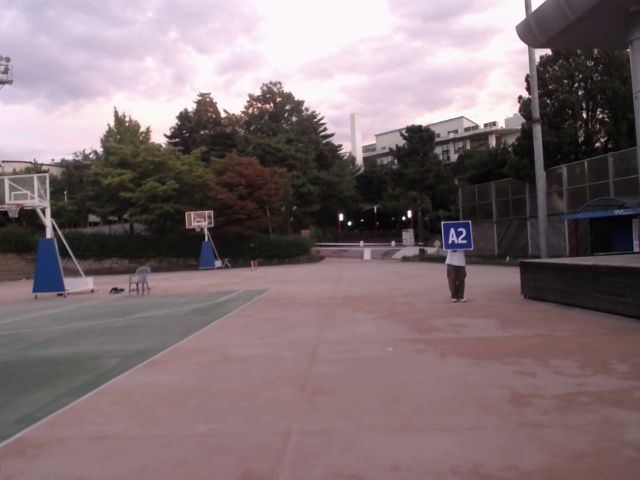delivery_a2: (443, 222, 472, 250)
